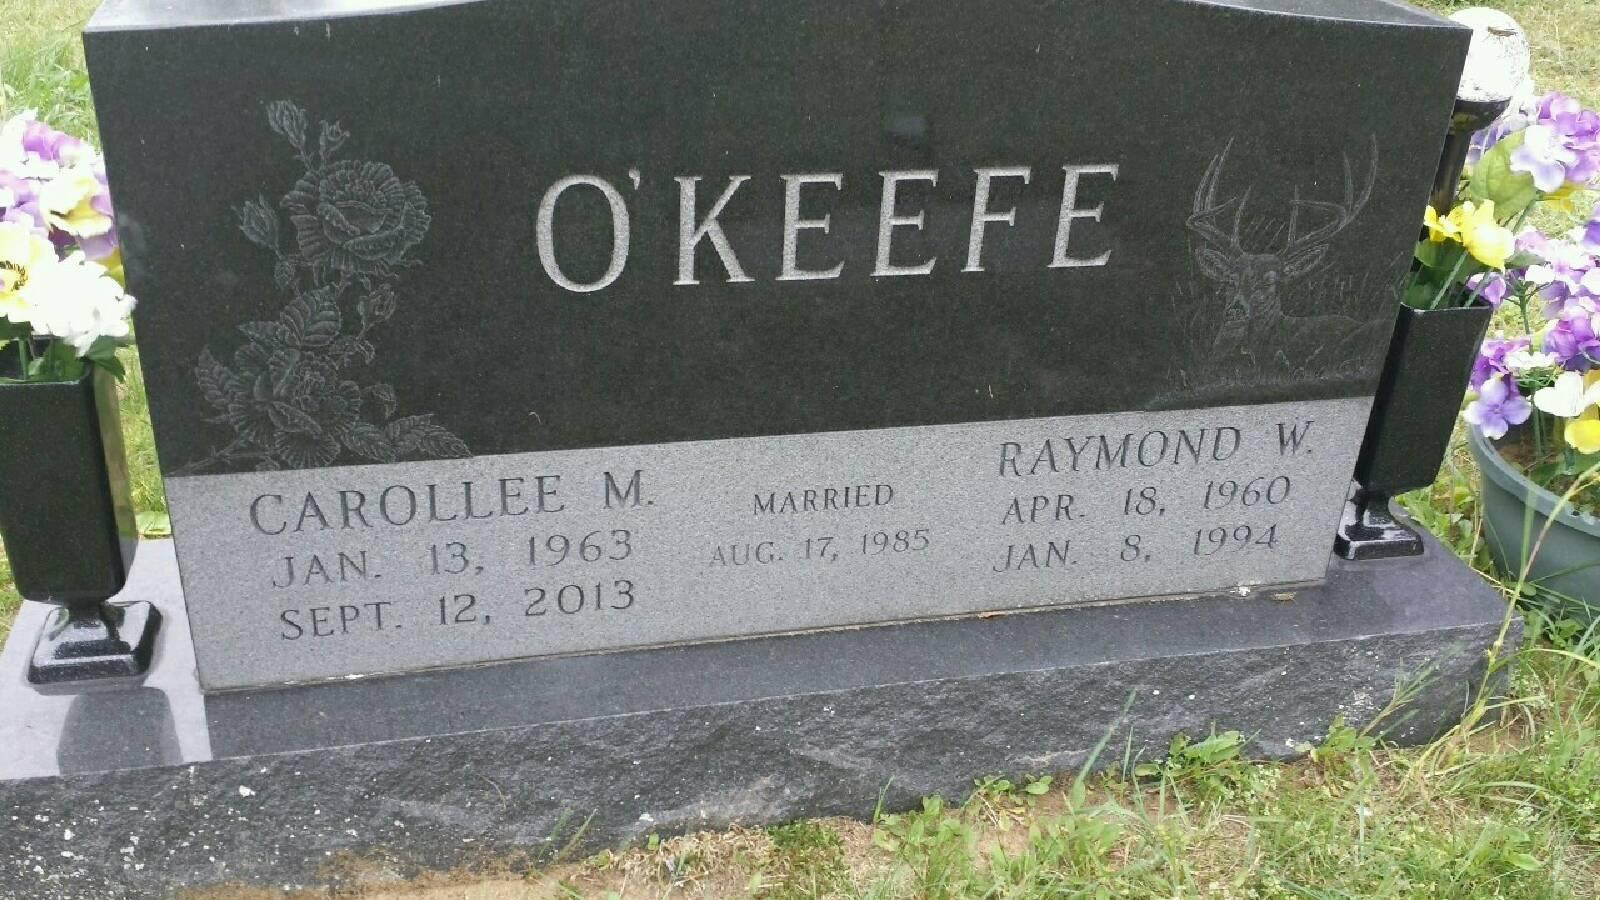upright: (0, 0, 1531, 900)
